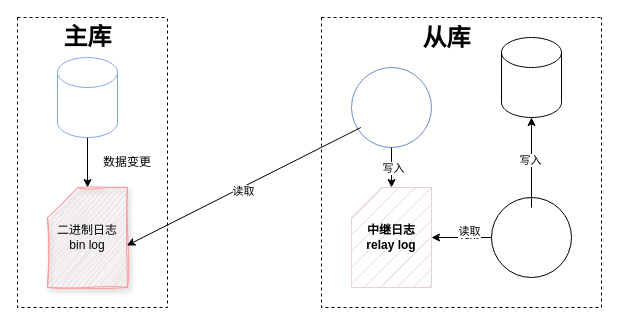
Image size: 619x325. Some labels were removed from this diagram. Each missing label, with the centre of its shape:
"IO线程" goes at pixel 391 107.
"SQL线程" goes at pixel 531 237.
